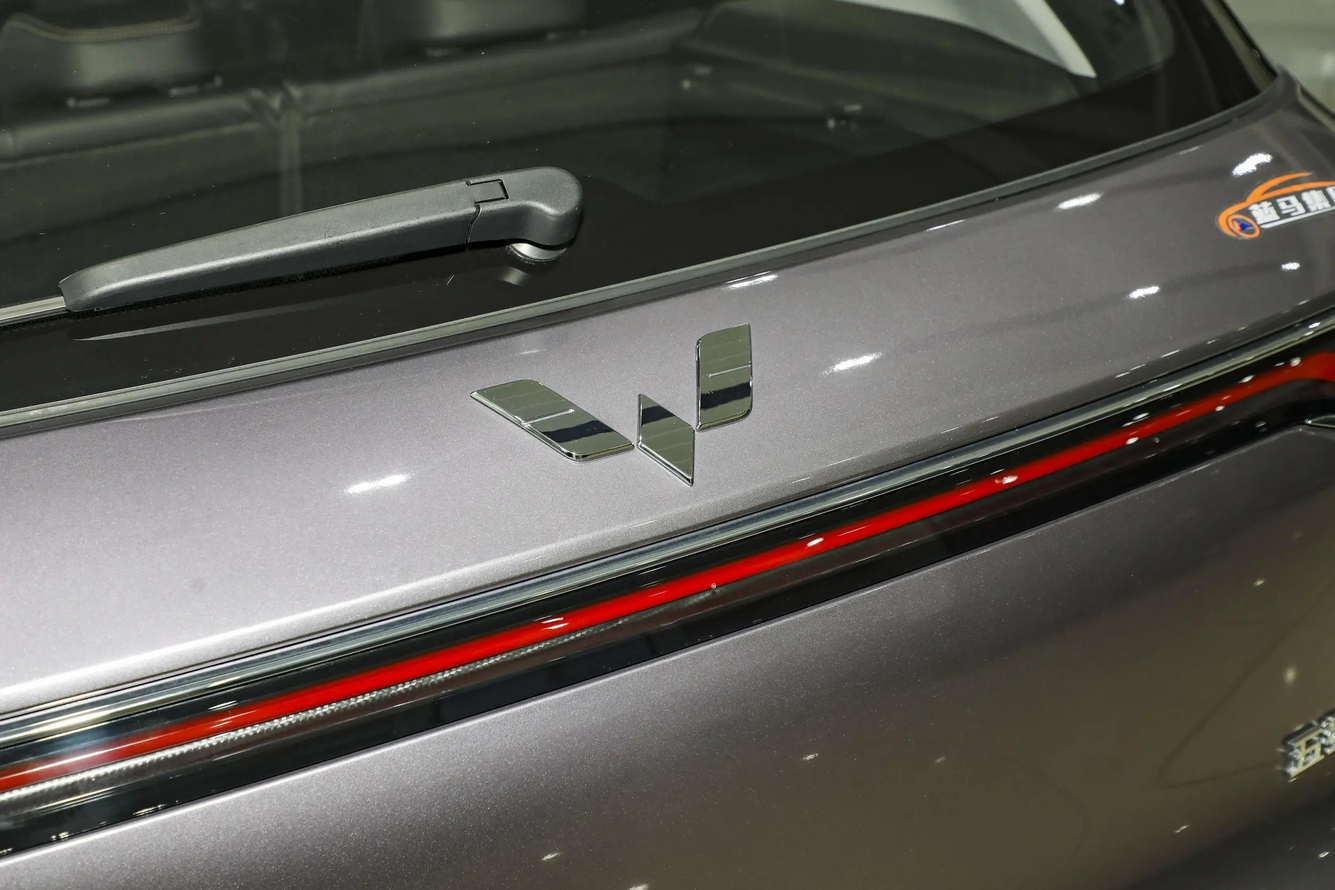SGMW: (472, 323, 752, 485)
